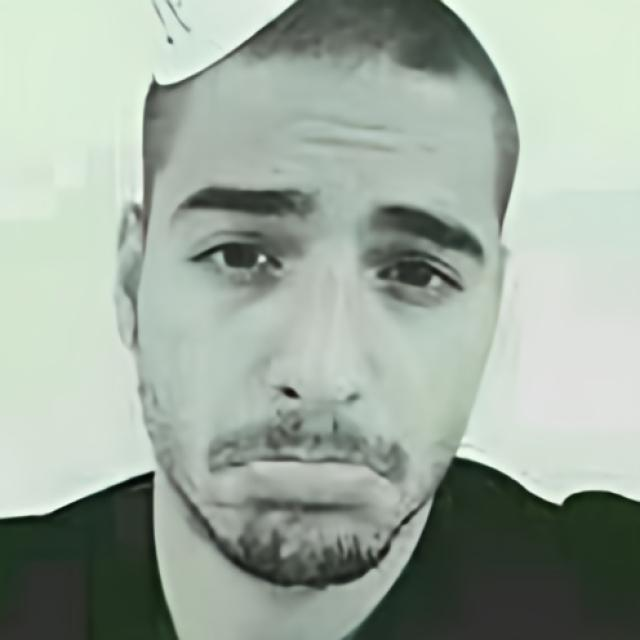sad: (138, 54, 507, 588)
